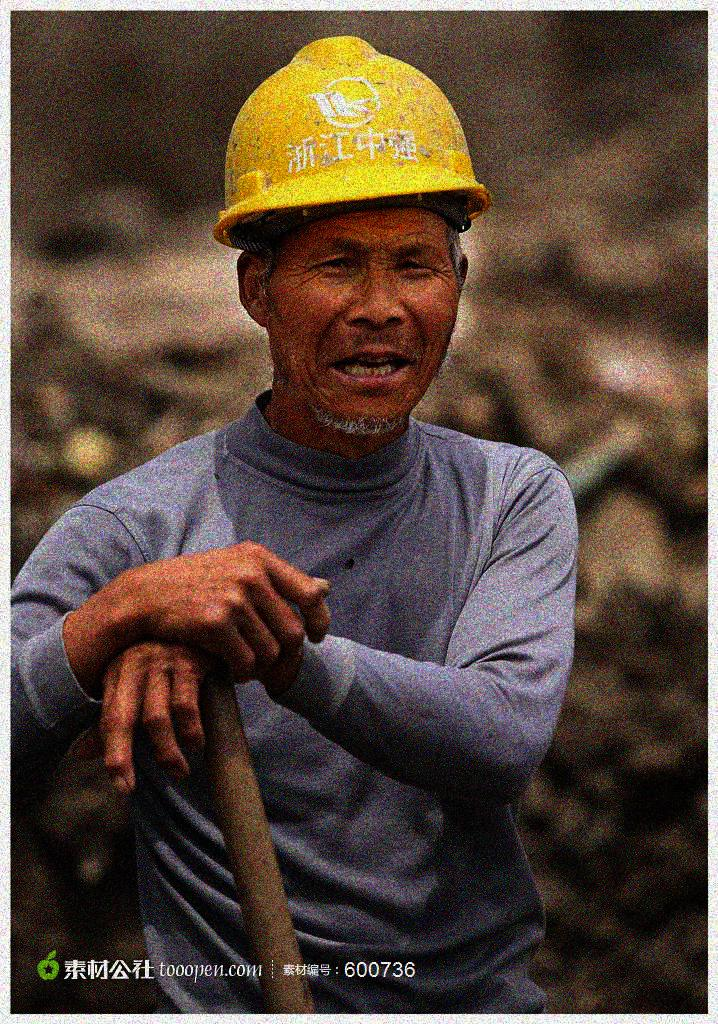helmet: (215, 34, 489, 435)
